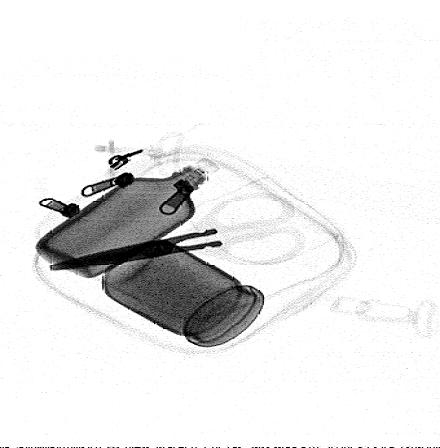Scissors: (47, 191, 305, 271)
